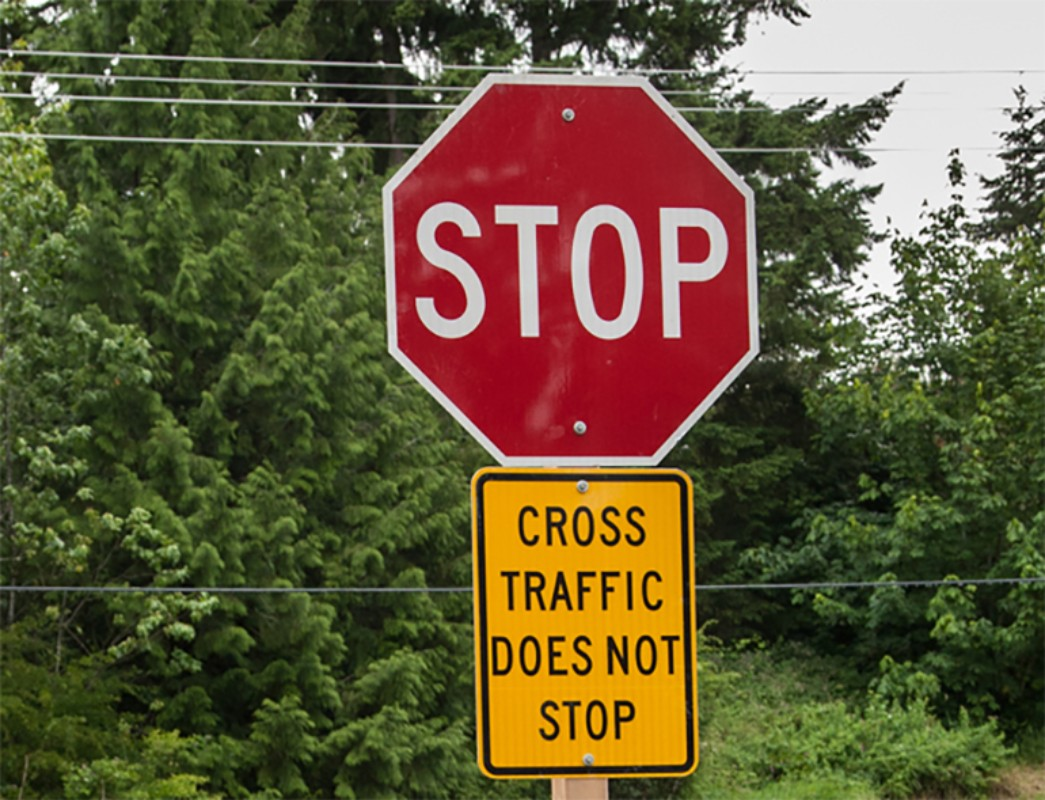stop: (384, 65, 757, 480)
